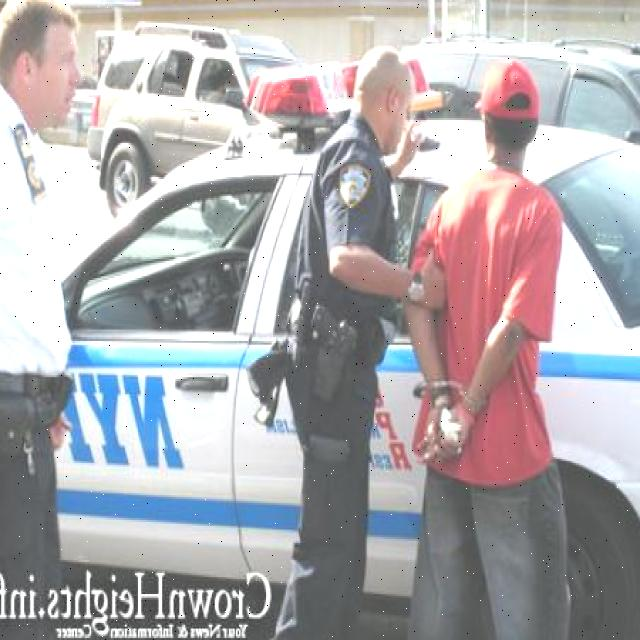police: (261, 28, 441, 640), (0, 0, 121, 592)
